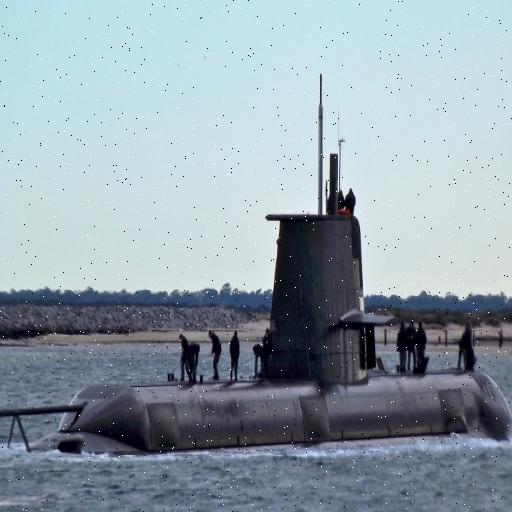submarine: (1, 77, 512, 450)
